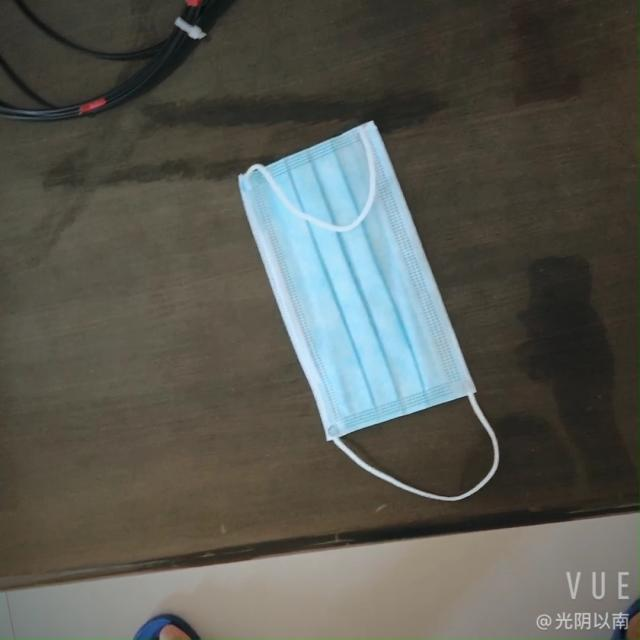non-organic waste: (218, 120, 486, 469)
